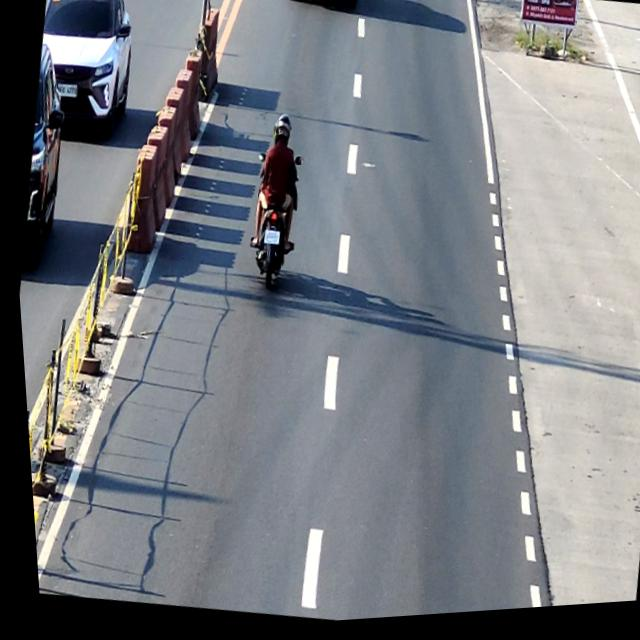Car: (25, 0, 151, 151), (6, 41, 81, 275)
License-Plate: (53, 81, 78, 100), (259, 232, 278, 250)
Motorcycle: (233, 149, 310, 302)
